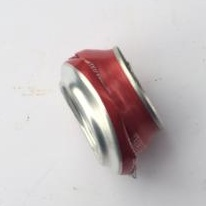Metal: (47, 40, 172, 172)
